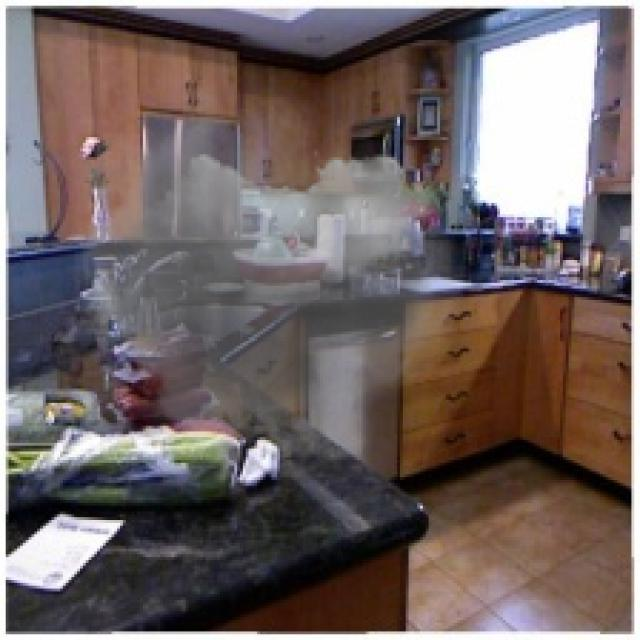smoke: (60, 71, 466, 480)
